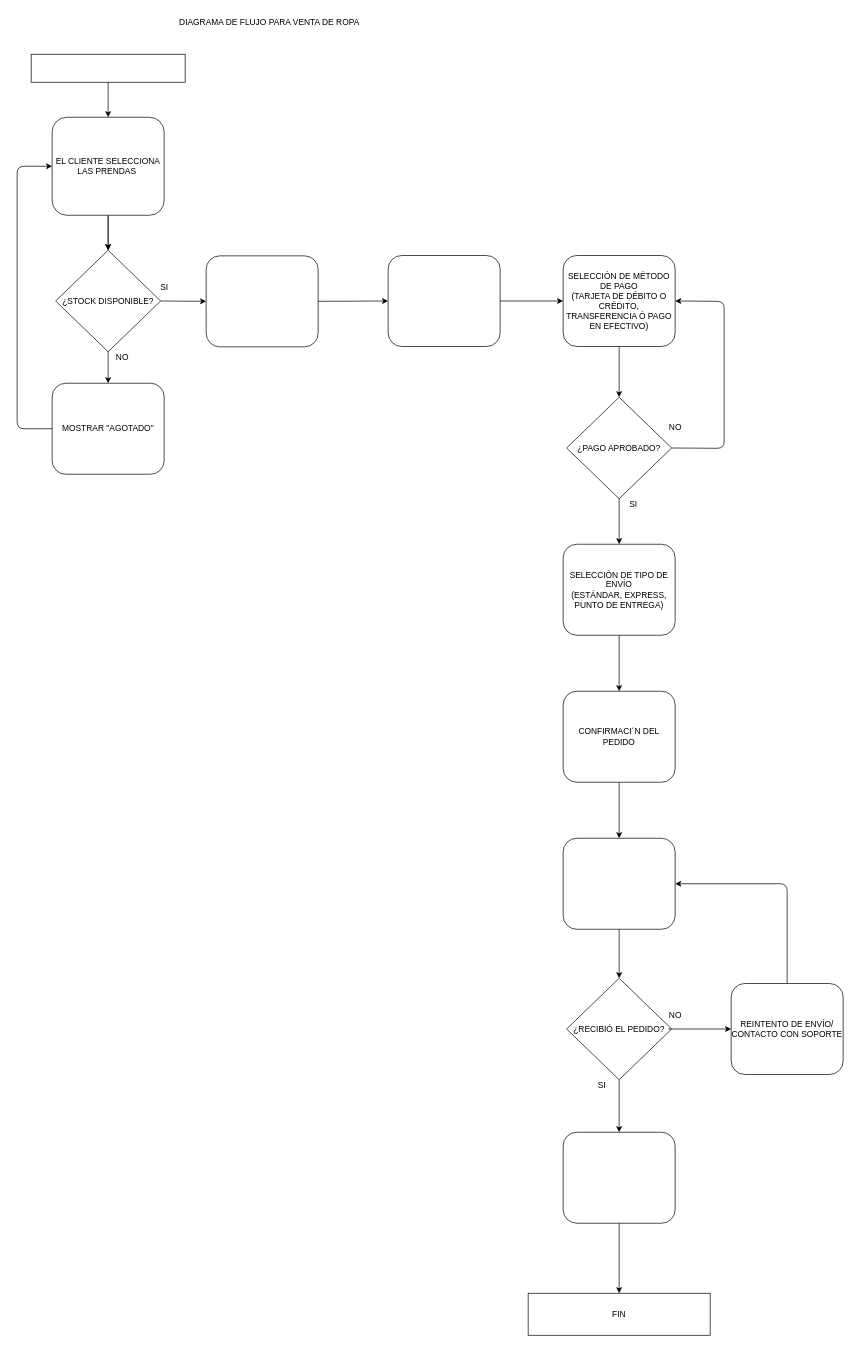
Some shapes in this 855 by 1348 pixel diagram are drawn without their labels. Here are the shapes that lost their labels. From the top down, the centre of each, then its label:
the point at 107,68: INICIO
the point at 261,301: AÑADIR AL CARRITO
the point at 443,300: CLIENTE CONFIRMA PEDIDO
the point at 618,883: ENTREGA DE PAQUETE
the point at 618,1177: REGISTRAR EN EL SISTEMA
